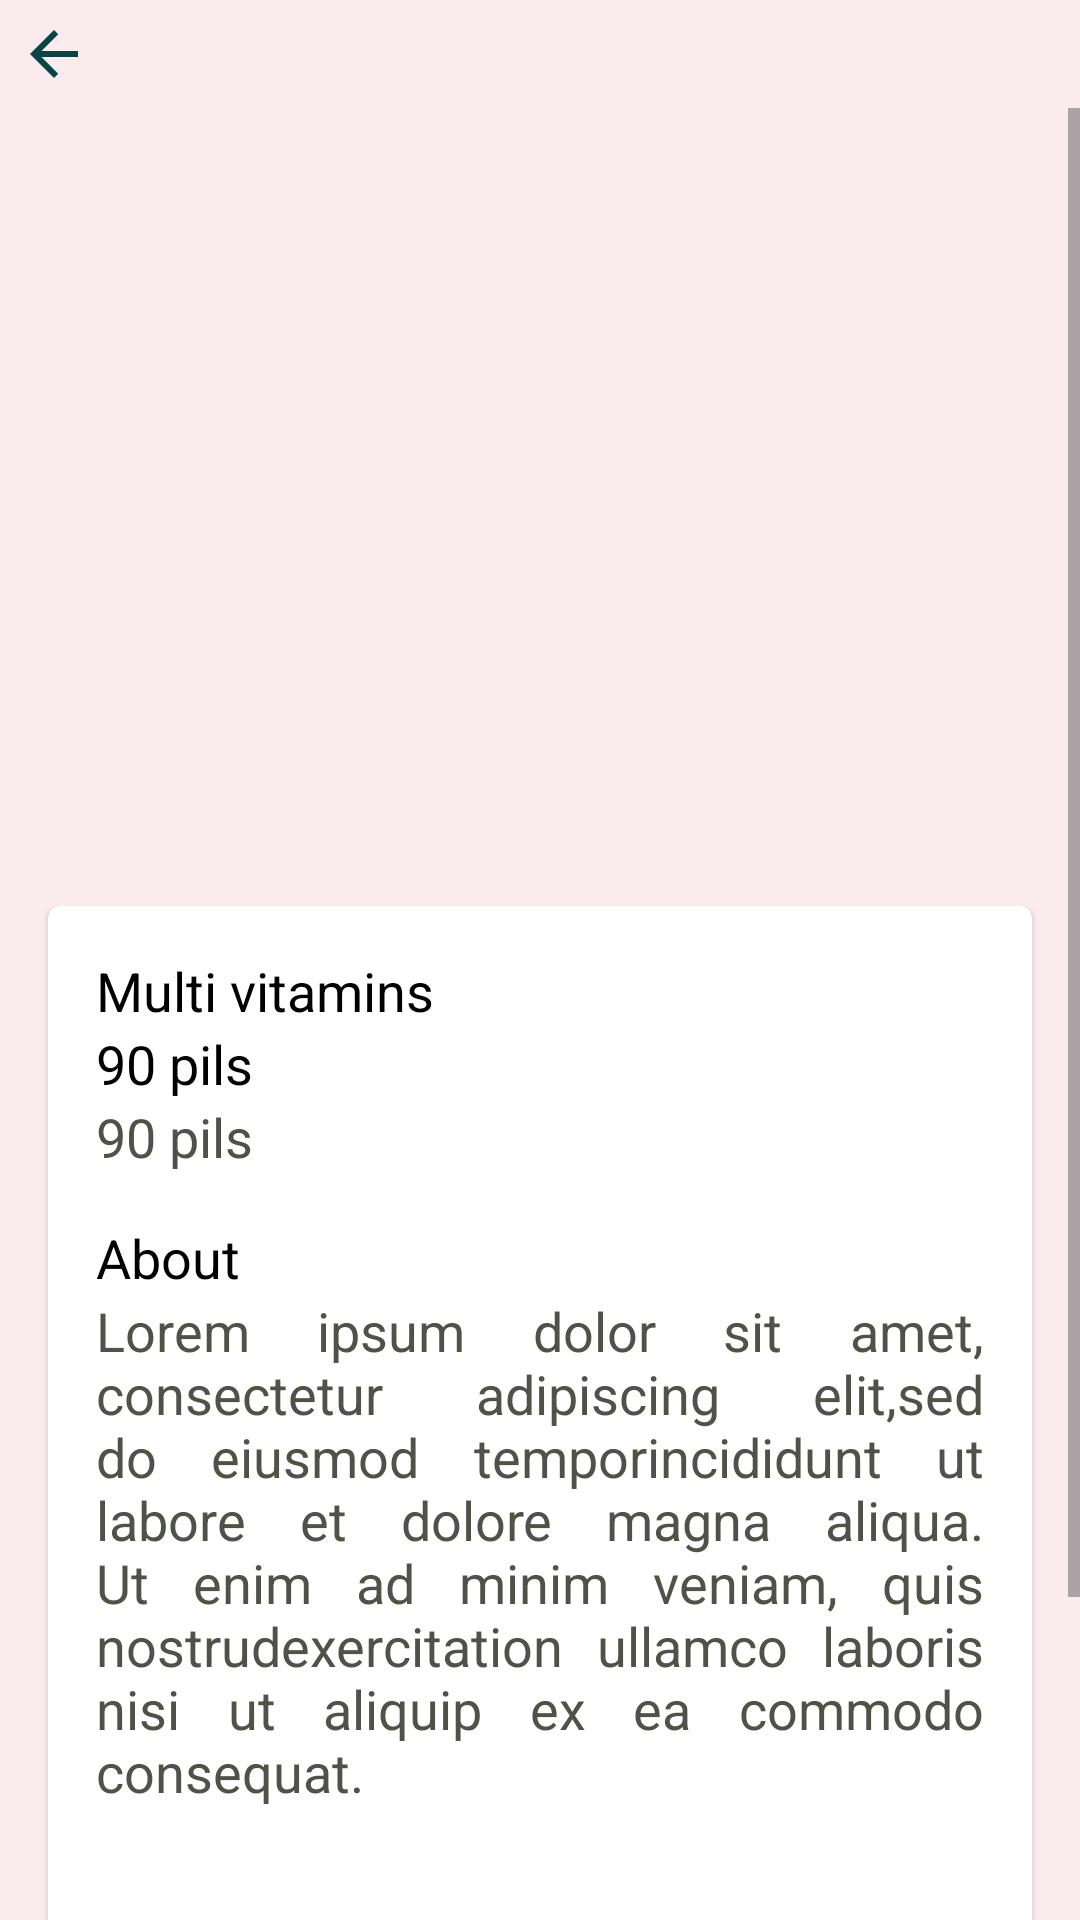

Point at icon controls on the screen. Image size 1080w x 1920h, points as (x=x, y=y).
arrow back: (x=54, y=54)
